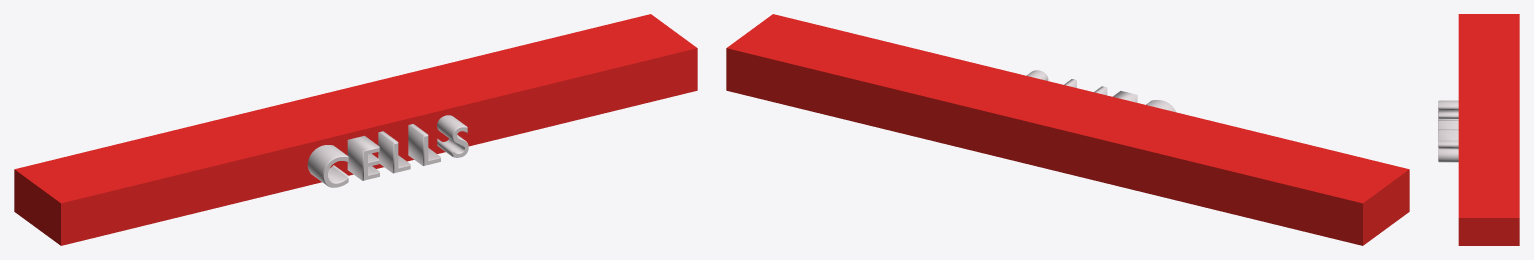
The model's file is cells.gltf.
3 views of the same model, side by side, from view 1: azimuth 30°, elevation 25°; view 2: azimuth 150°, elevation 25°; view 3: azimuth 270°, elevation 25° (orthographic). The views are drawn at different scales.
Visible parts, largest first — view 1: Cube, CEELS; view 2: Cube, CEELS; view 3: Cube, CEELS.
Part boxes in pixels (bbox=[...]): Cube: bbox=[14, 14, 697, 245]; CEELS: bbox=[307, 115, 468, 187]; Cube: bbox=[726, 14, 1409, 245]; CEELS: bbox=[1026, 70, 1175, 112]; Cube: bbox=[1458, 14, 1519, 245]; CEELS: bbox=[1438, 100, 1458, 162].
Size of the model in its own units: 10.42 by 0.6658 by 1.76.
